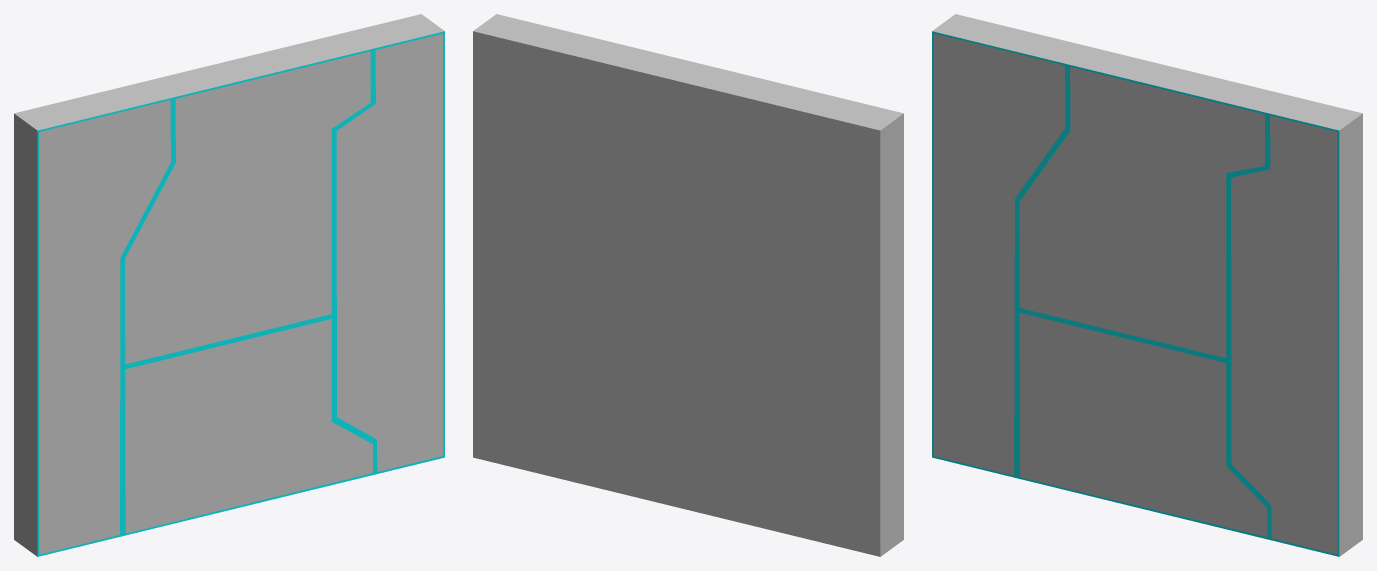
File: Wall_006.fbx
The picture shows the model from 3 angles, left to right: view 1: azimuth 30°, elevation 25°; view 2: azimuth 150°, elevation 25°; view 3: azimuth 330°, elevation 25°; orthographic projection.
Parts seen in each view (by area): view 1: Wall_006; view 2: Wall_006; view 3: Wall_006.
Boxes of the visible parts, x1=… form: Wall_006: x1=14, y1=14, x2=444, y2=556; Wall_006: x1=473, y1=14, x2=903, y2=556; Wall_006: x1=932, y1=14, x2=1362, y2=556.
Bounding box in the file's own units: 300 × 300 × 30.
